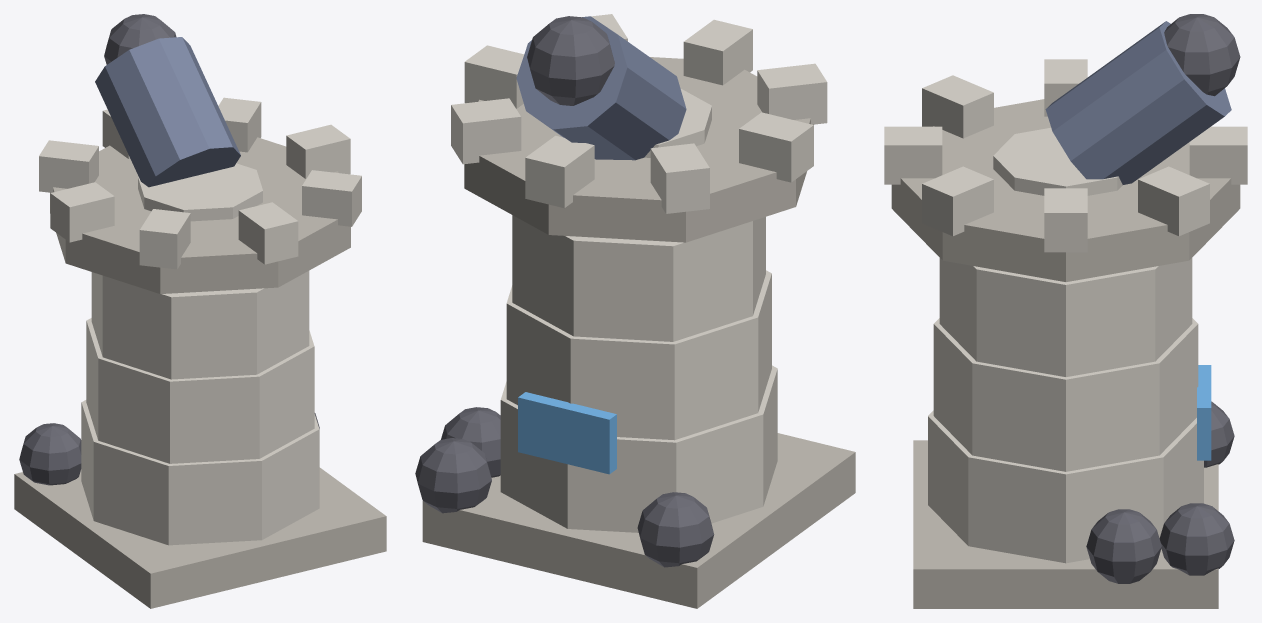
The model's file is bomb_tower.glb.
3 views of the same model, side by side, from view 1: azimuth 30°, elevation 25°; view 2: azimuth 150°, elevation 25°; view 3: azimuth 270°, elevation 25° (orthographic). The views are drawn at different scales.
Visible parts, largest first — view 1: bomb_tower; view 2: bomb_tower; view 3: bomb_tower.
Boxes of the visible parts, bbox=[...] form: bomb_tower: bbox=[14, 14, 386, 608]; bomb_tower: bbox=[415, 14, 855, 608]; bomb_tower: bbox=[884, 14, 1247, 608].
Size of the model in its own units: 2.5 by 4 by 2.5.
